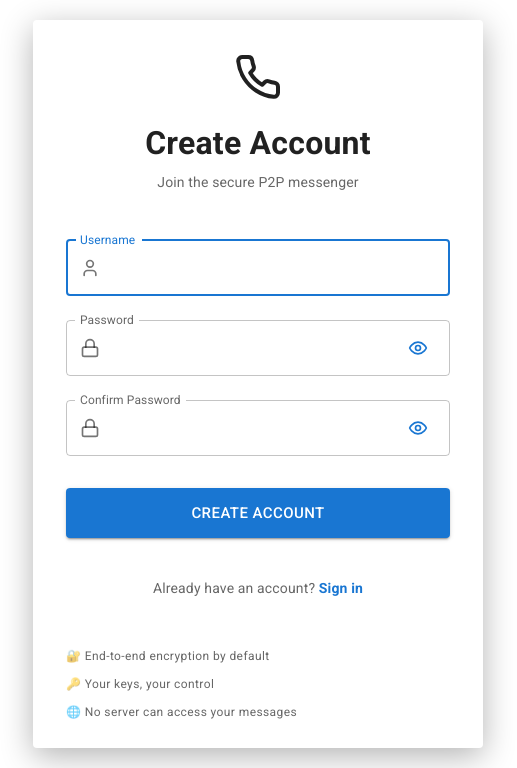
Test: RegisterForm › shows validation error for invalid username characters
The image size is (517, 768).
Type "user@name" into the field labelled "Username" at (279, 268), box [108,240,450,296]
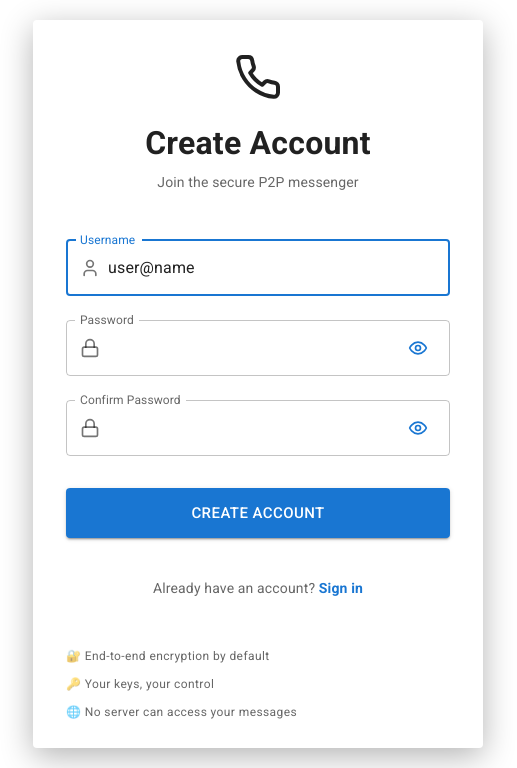
Click the button "Create Account" at (258, 513), box [66,488,450,538]
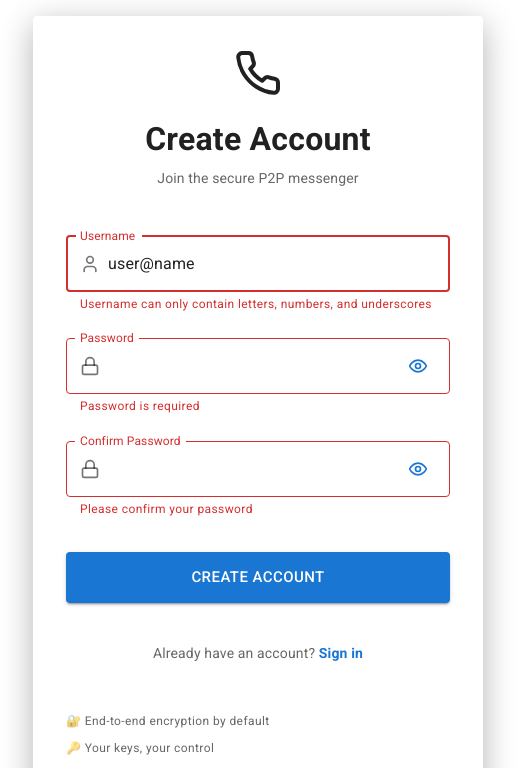
Expected: the text "Username can only contain letters, numbers, and underscores" is shown, [80,294,436,314]
